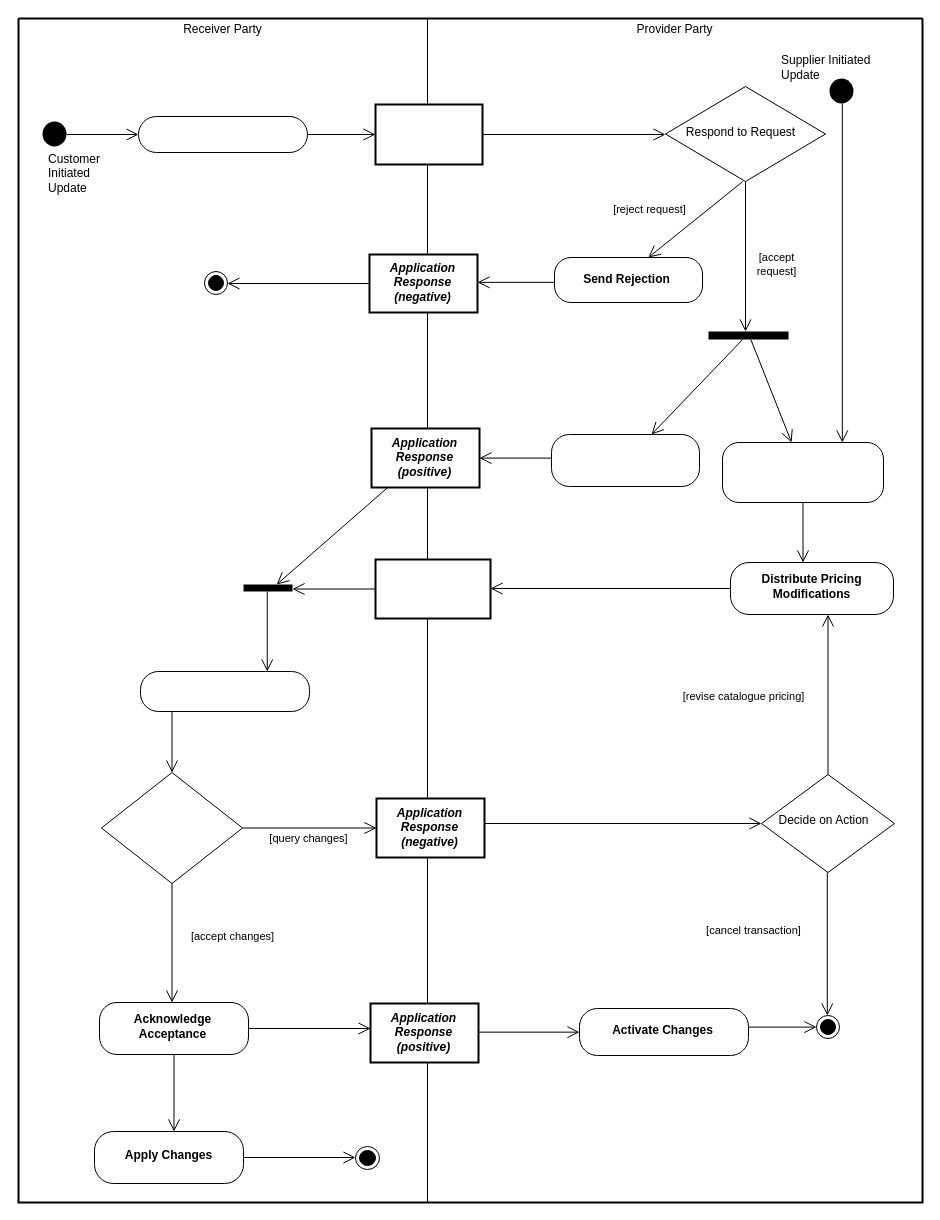
The diagram is 940 pixels wide and 1220 high, and some of its shapes have lost their labels. Each missing label, with the centre of its shape:
"Catalogue Pricing Update" belongs at pixel 432 588.
"Catalogue Request" belongs at pixel 428 134.
"Prepare Catalogue Pricing Update Information" belongs at pixel 803 472.
"Receive Pricing Update" belongs at pixel 225 691.
"Request Catalogue Update" belongs at pixel 223 134.
"Review Pricing Details" belongs at pixel 171 828.
"Send Acceptance Response" belongs at pixel 625 460.
